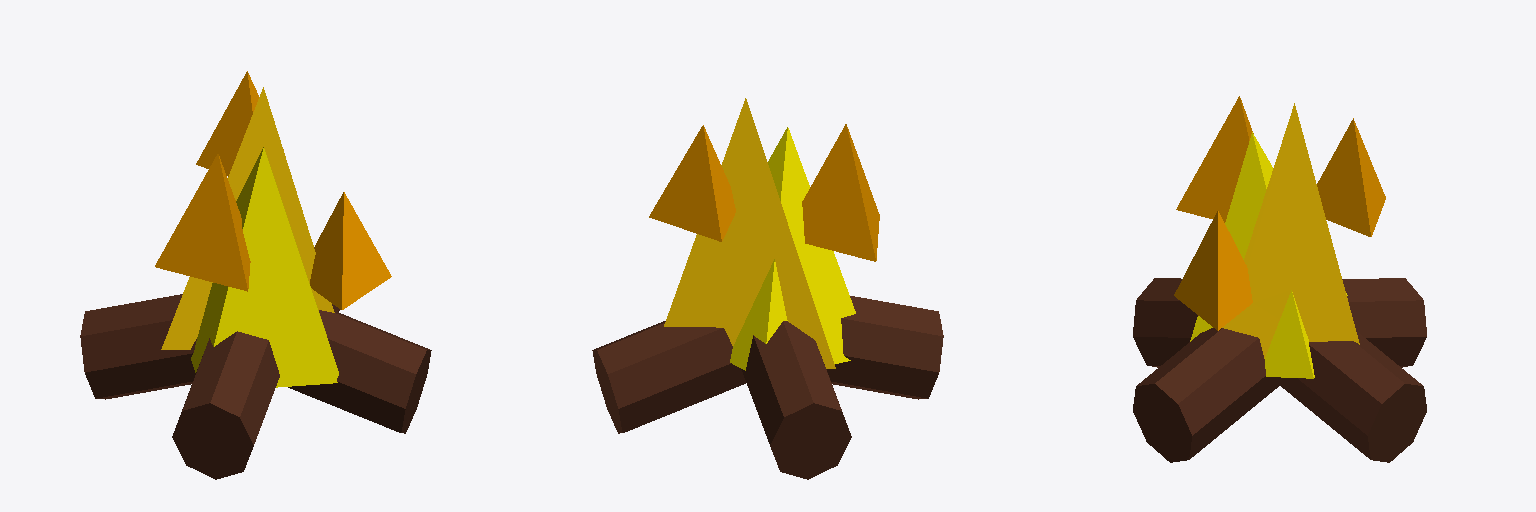
The model's file is campfire4.obj.
3 views of the same model, side by side, from view 1: azimuth 30°, elevation 25°; view 2: azimuth 150°, elevation 25°; view 3: azimuth 270°, elevation 25° (orthographic).
Parts seen in each view (by area): view 1: Object.5, Object.2, Object.4, Object.3; view 2: Object.5, Object.1, Object.3, Object.2; view 3: Object.5, Object.4, Object.1, Object.3, Object.2.
Part boxes in pixels (x1,y1,x2,y2): Object.5: (155, 71, 391, 387); Object.2: (172, 331, 279, 479); Object.4: (288, 310, 431, 433); Object.3: (80, 294, 196, 399); Object.5: (649, 98, 879, 370); Object.1: (592, 321, 745, 433); Object.3: (741, 321, 851, 479); Object.2: (827, 296, 943, 399); Object.5: (1174, 96, 1385, 378); Object.4: (1133, 328, 1279, 462); Object.1: (1280, 331, 1426, 462); Object.3: (1342, 278, 1426, 367); Object.2: (1133, 278, 1197, 367).
Bounding box in the file's own units: 0.8322 × 1 × 0.8322.